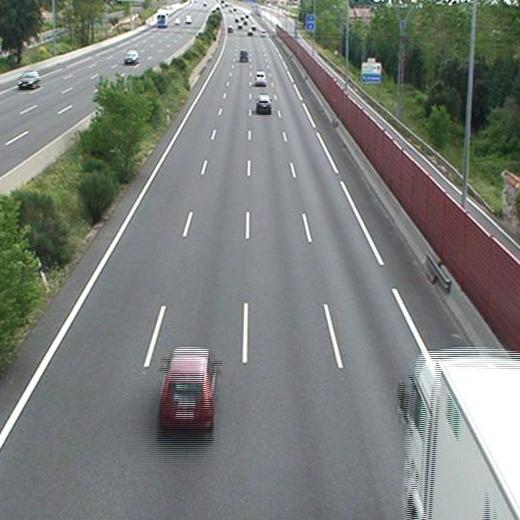car: (160, 348, 213, 426), (257, 95, 271, 111), (254, 71, 265, 85), (239, 50, 249, 61)
